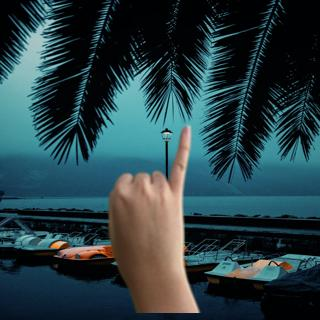Fine: (98, 116, 206, 297)
